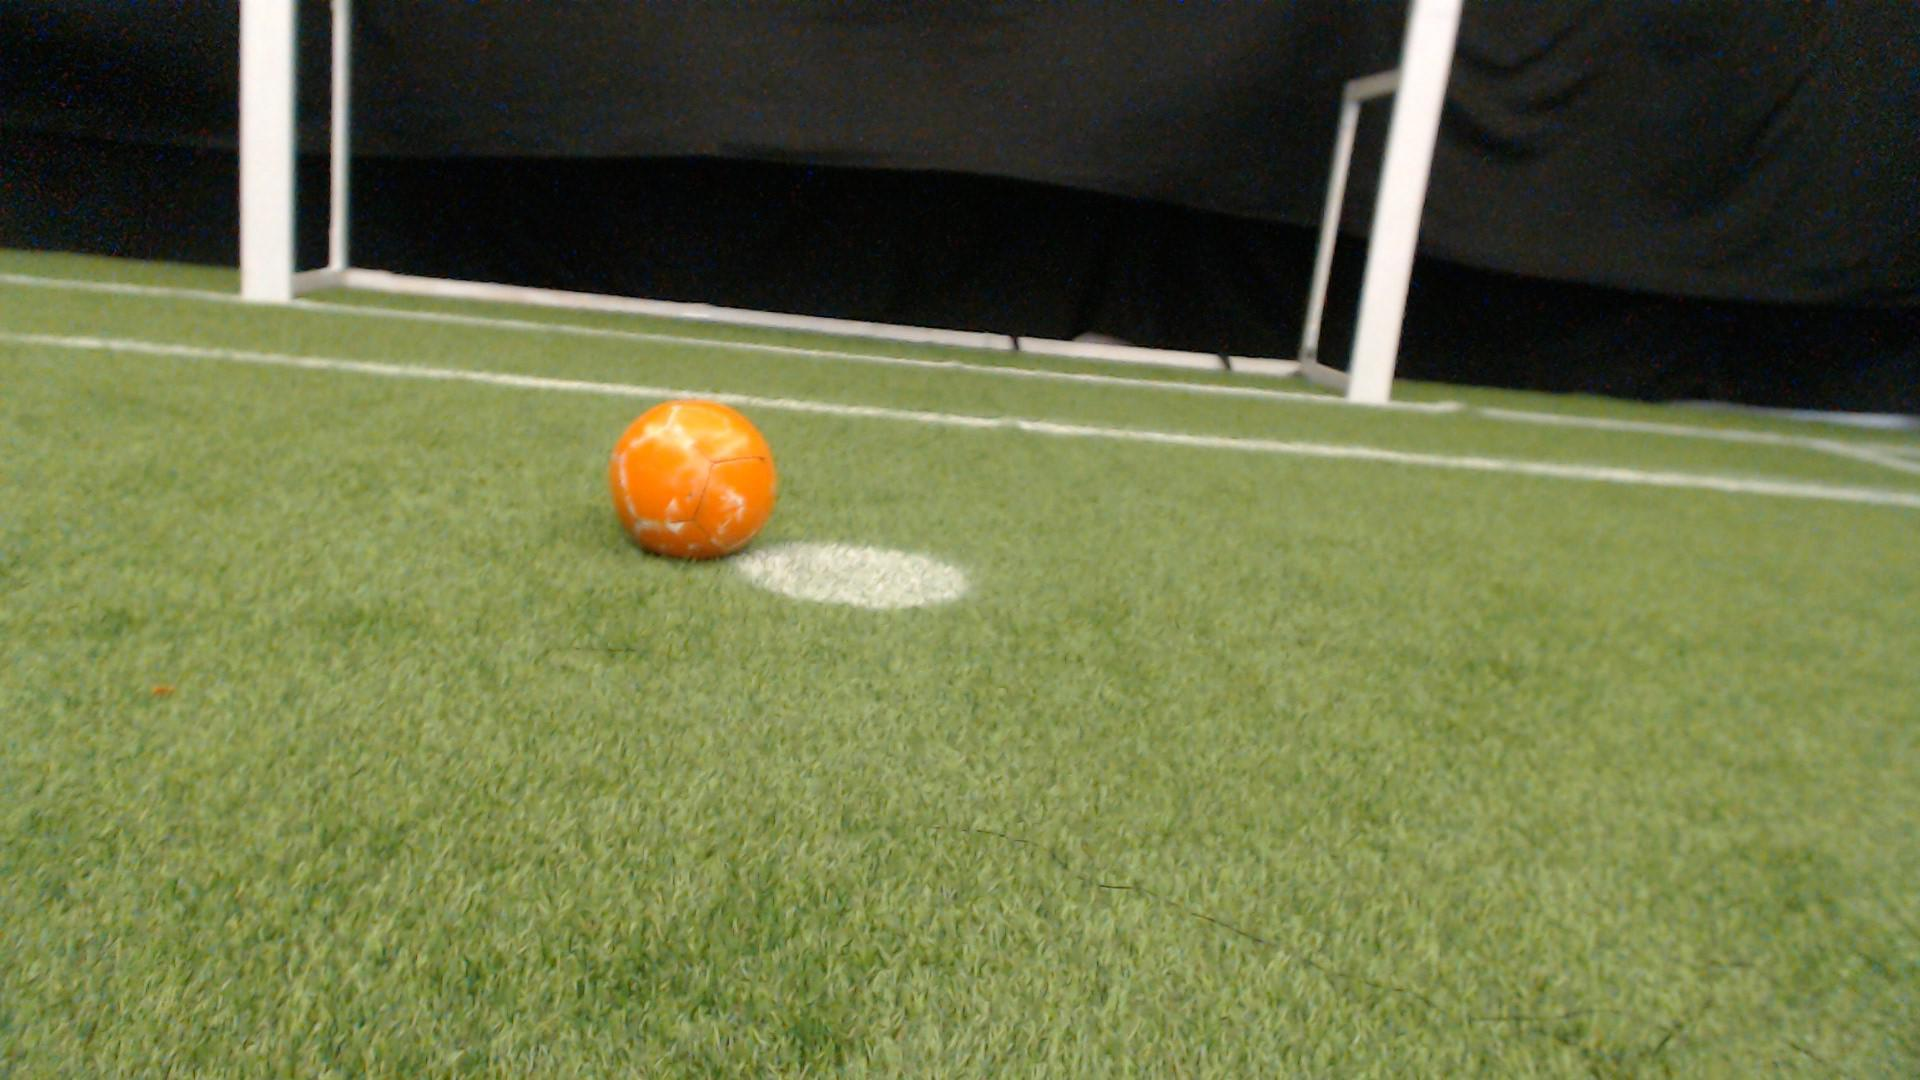bola: (582, 376, 810, 578)
